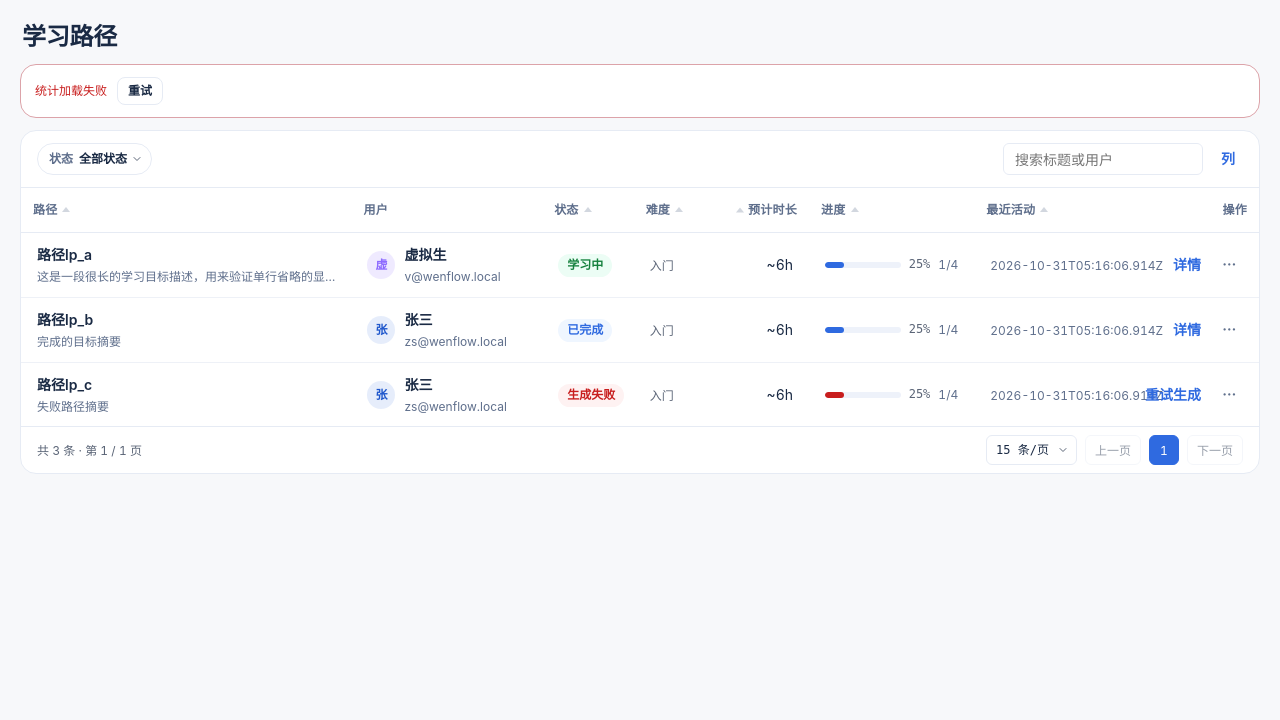
Test case: OpsContent 学习路径 tab 重设计骨架 › 统计拉取失败：KPI 带换成「统计加载失败 + 重试」，重试成功后恢复读数
This screenshot has width=1280, height=720.
expect the message "统计加载失败 重试" is shown: met, box [20,64,1260,118]
expect the message with class "oc-stats-error" shows "统计加载失败": met, box [35,83,107,98]
What coordinates should you click on to do the following:
click the button "重试"
I would click on:
 (140, 91)
Its box is [117,77,163,105].
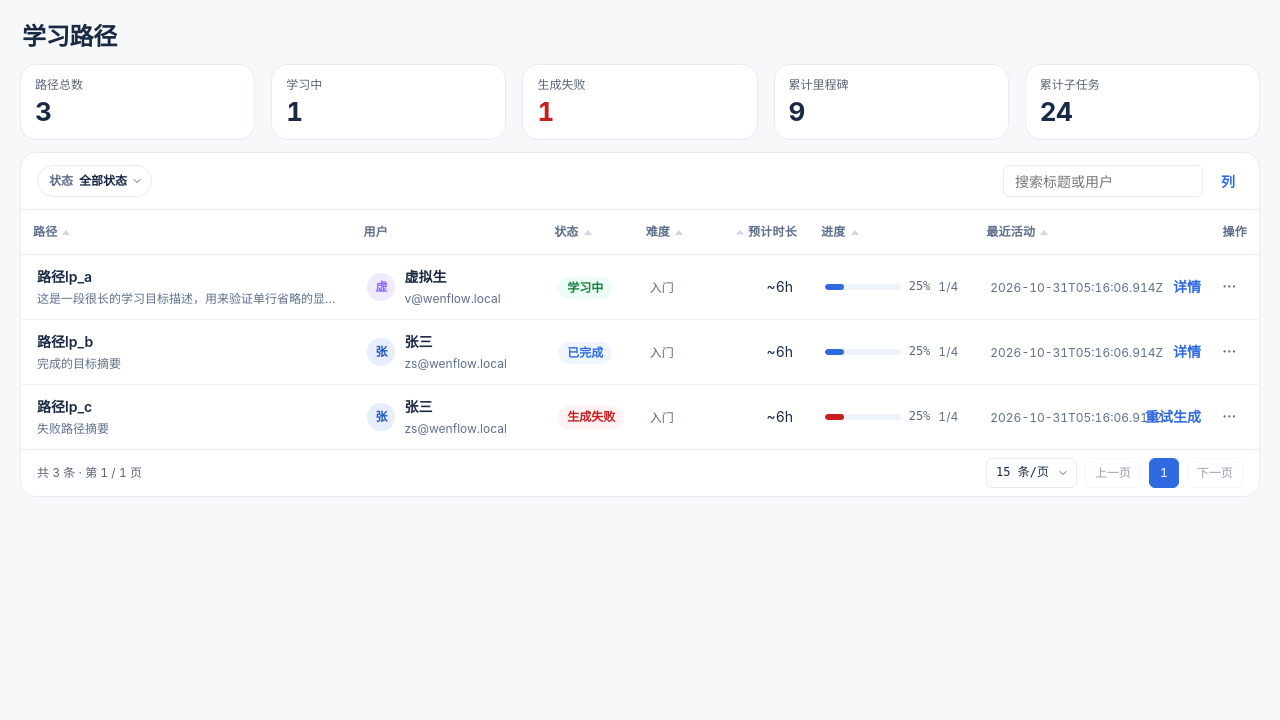
expect the text with class "mk-kpi__label" reads "路径总数": met, box [35,77,83,92]
